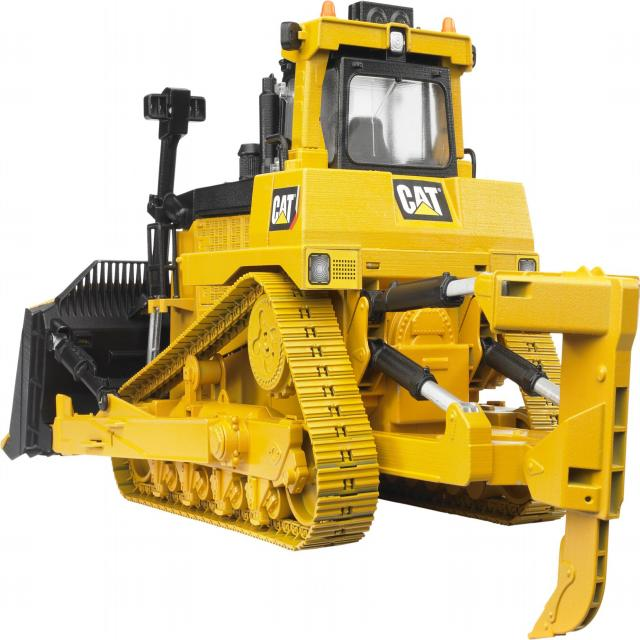Bulldozer: (12, 22, 632, 628)
